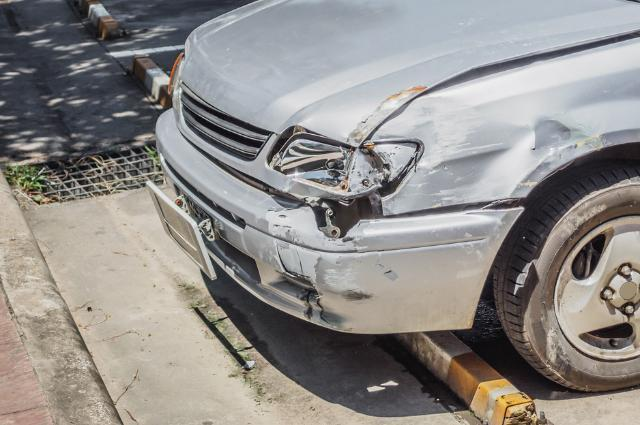Bumper: (233, 196, 520, 333)
Fender: (383, 111, 594, 204)
Light: (268, 131, 399, 201)
